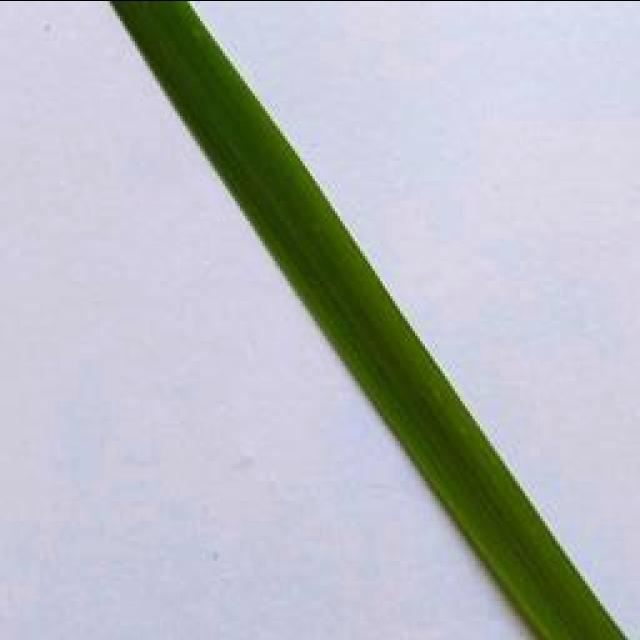Healthy: (108, 0, 623, 640)
